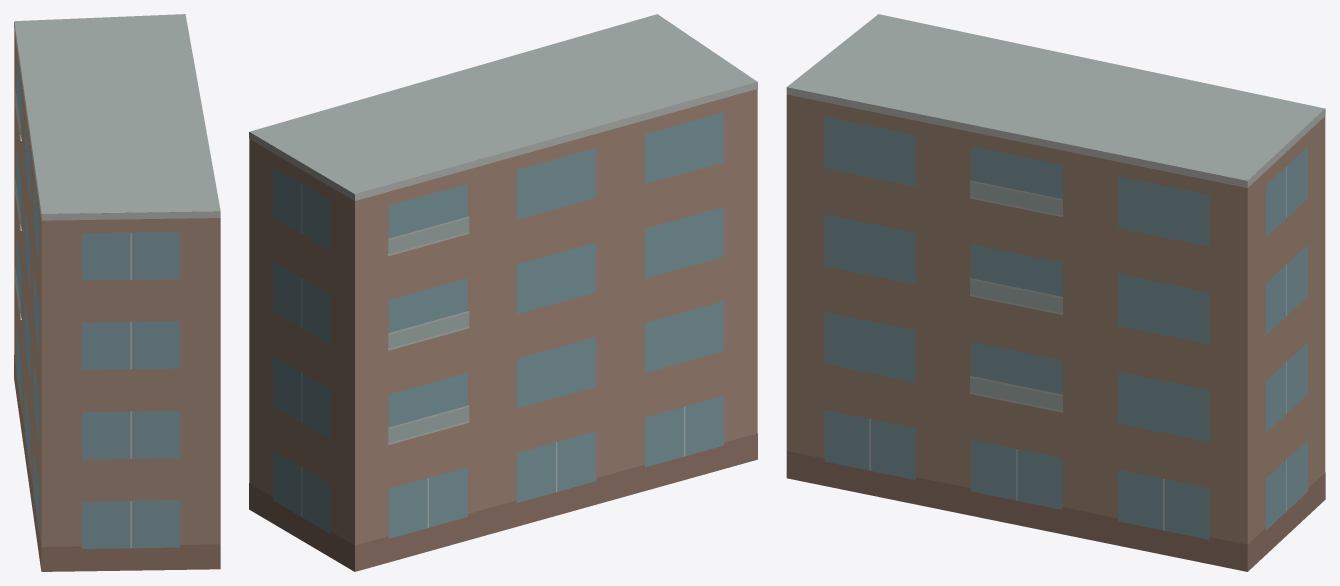
File: survey-upis-33038243.glb
The picture shows the model from 3 angles, left to right: view 1: azimuth 30°, elevation 25°; view 2: azimuth 150°, elevation 25°; view 3: azimuth 270°, elevation 25°; orthographic projection. The views are drawn at different scales.
Visible parts, largest first — view 1: survey-upis-33038243.tmp; view 2: survey-upis-33038243.tmp; view 3: survey-upis-33038243.tmp.
Boxes of the visible parts, left/top/right/bottom form: survey-upis-33038243.tmp: left=14, top=14, right=220, bottom=571; survey-upis-33038243.tmp: left=249, top=14, right=757, bottom=571; survey-upis-33038243.tmp: left=786, top=14, right=1325, bottom=571.
Size of the model in its own units: 12.09 by 13.2 by 16.5.
